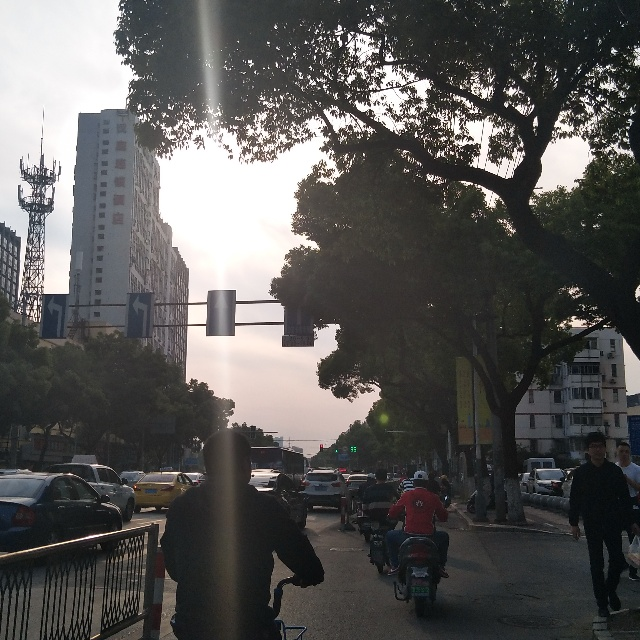left: (40, 294, 69, 339), (125, 293, 153, 338)
straight: (206, 290, 235, 336)
